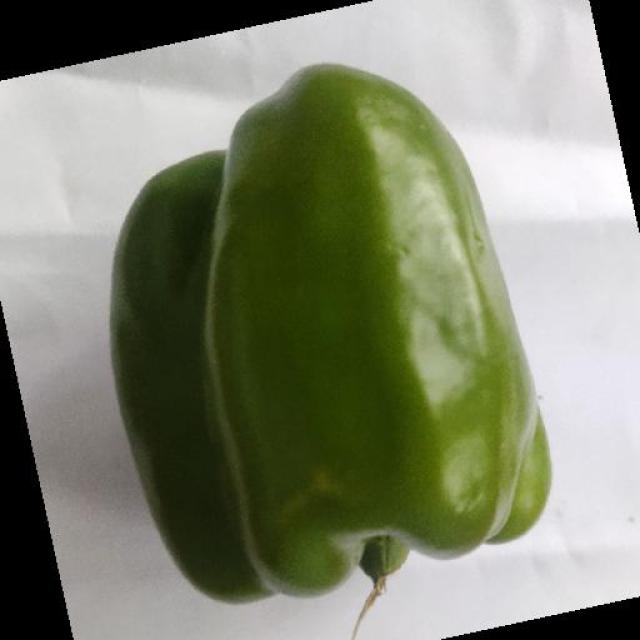Fresh_Capsicum: (118, 93, 550, 560)
